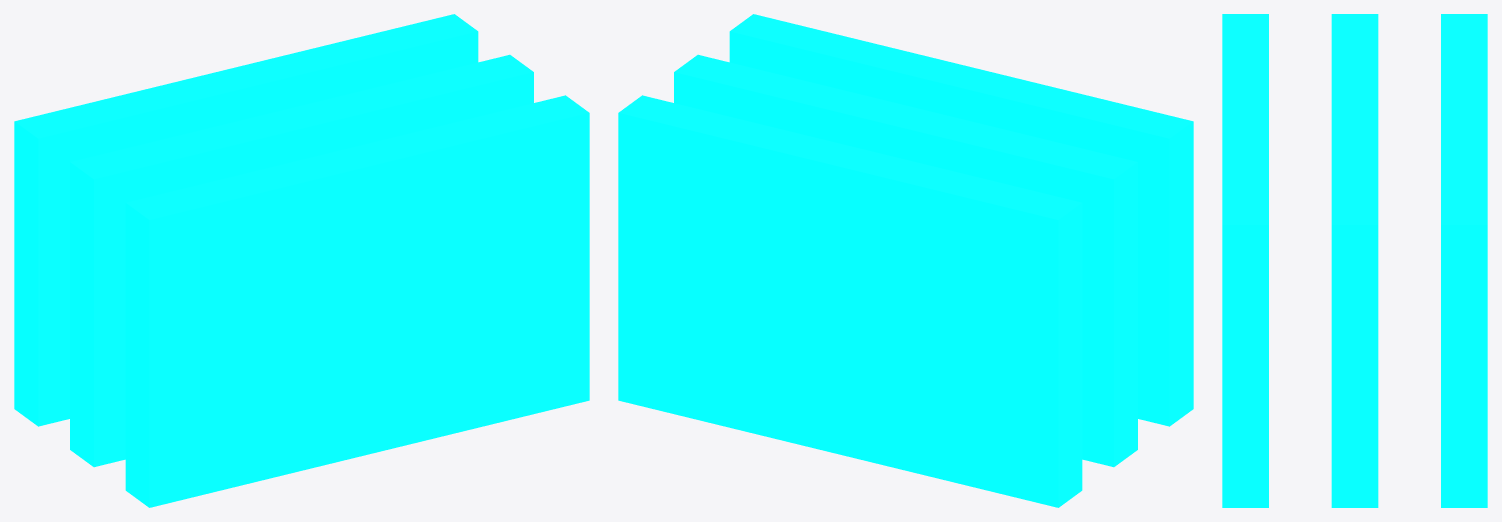
The model's file is data_chip_stack.glb.
3 views of the same model, side by side, from view 1: azimuth 30°, elevation 25°; view 2: azimuth 150°, elevation 25°; view 3: azimuth 270°, elevation 25° (orthographic).
Visible parts, largest first — view 1: chip_0, chip_2, chip_1; view 2: chip_2, chip_0, chip_1; view 3: chip_1, chip_0, chip_2.
Boxes of the visible parts, x1=… form: chip_0: x1=125, y1=95, x2=589, y2=507; chip_2: x1=14, y1=14, x2=478, y2=426; chip_1: x1=70, y1=54, x2=533, y2=467; chip_2: x1=618, y1=95, x2=1082, y2=507; chip_0: x1=729, y1=14, x2=1193, y2=426; chip_1: x1=674, y1=54, x2=1137, y2=467; chip_1: x1=1331, y1=14, x2=1378, y2=507; chip_0: x1=1222, y1=14, x2=1268, y2=507; chip_2: x1=1441, y1=14, x2=1487, y2=507.
Size of the model in its own units: 0.16 by 0.1 by 0.085.
